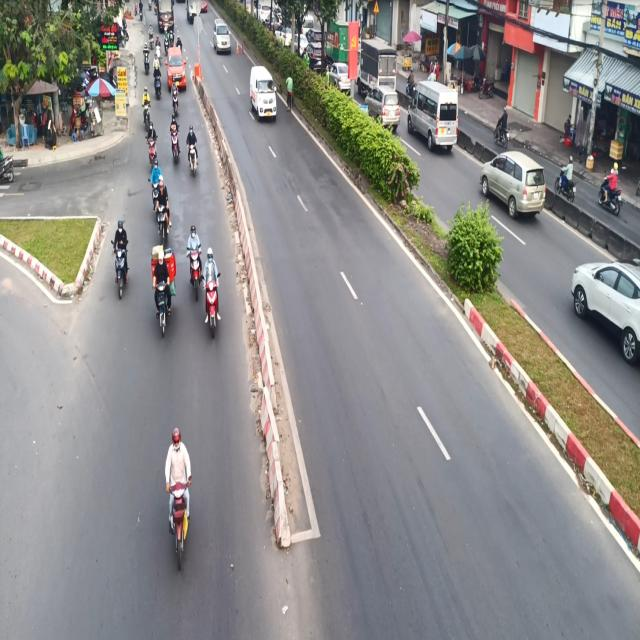car: (250, 60, 278, 124), (165, 38, 192, 88), (213, 18, 230, 57)
motor: (164, 419, 194, 565), (154, 247, 172, 338), (205, 240, 221, 339), (112, 218, 132, 294), (185, 223, 204, 289), (184, 119, 198, 177)
